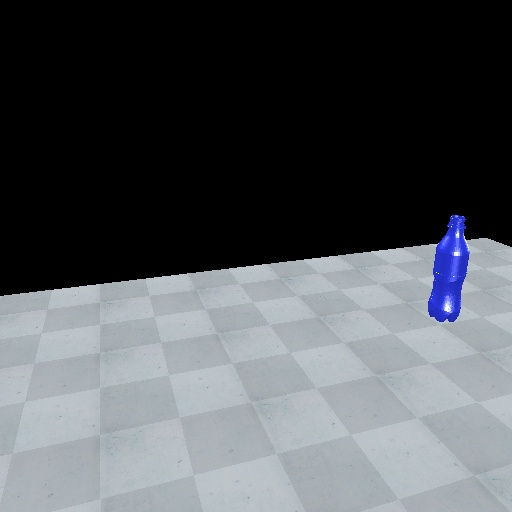bottle: (426, 212, 471, 323)
